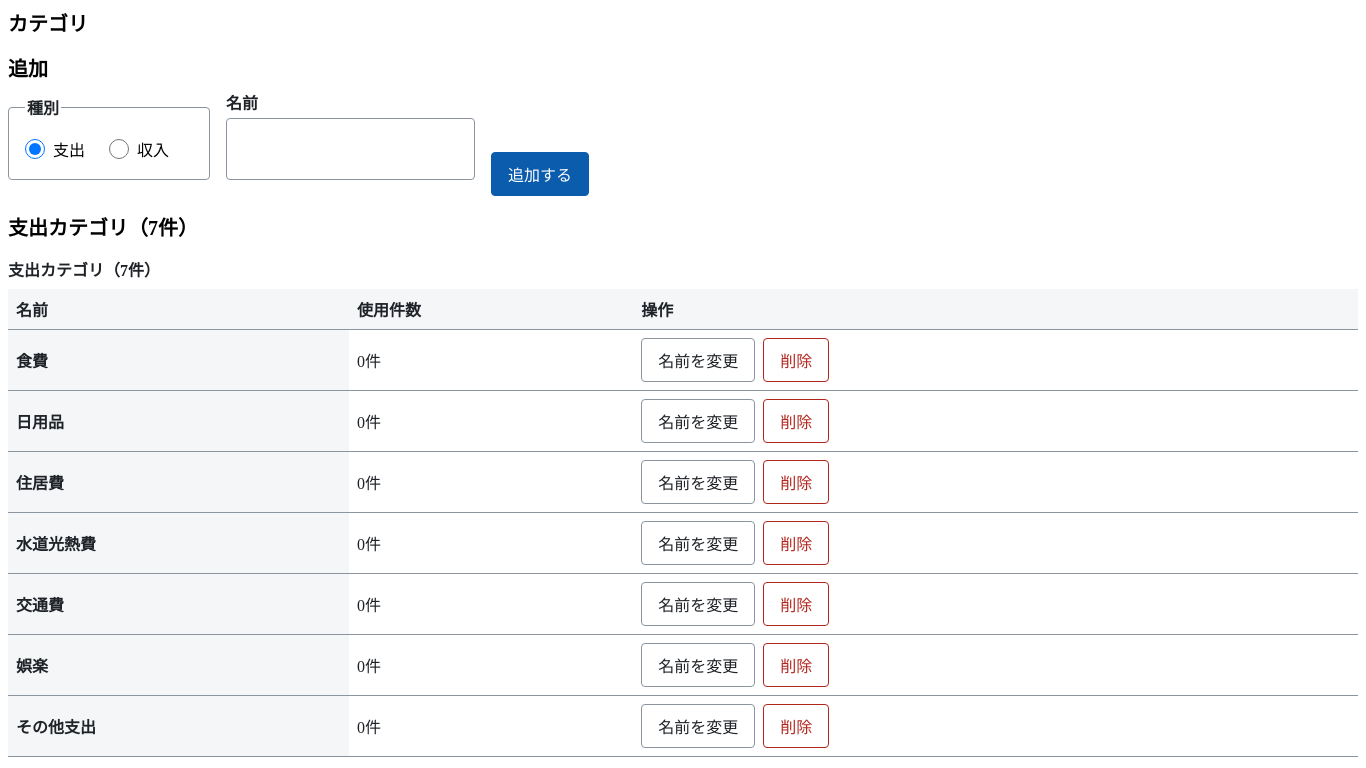
it: カテゴリの名前の変更 › 名前を変更は入力欄に変わり、Esc で取り消して「名前を変更」へフォーカスを戻す（BR3.3）
Click the button with aria-label "娯楽の名前を変更" at (698,665), box [641,643,755,687]
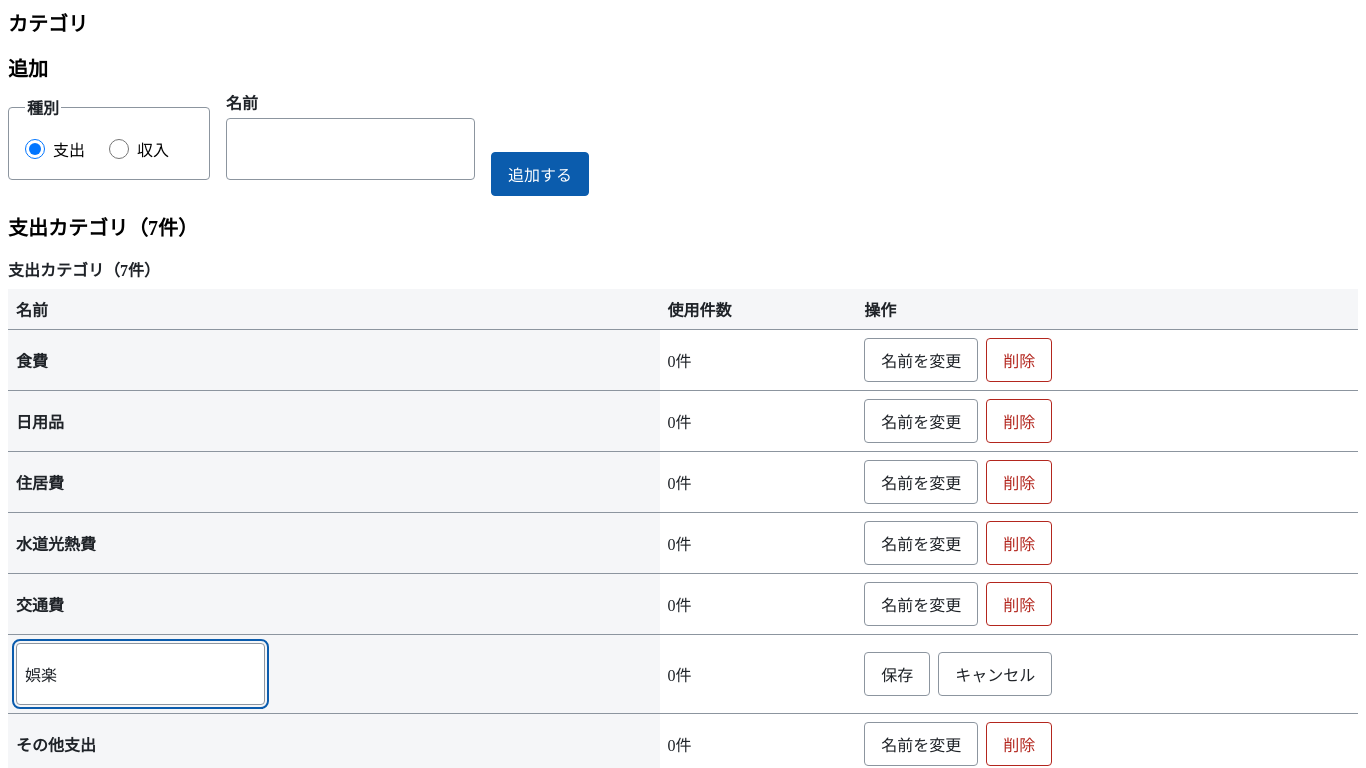
Replace the text in the field named "娯楽の名前を変更" with "架空の遊び" at (140,674), box [16,643,265,705]
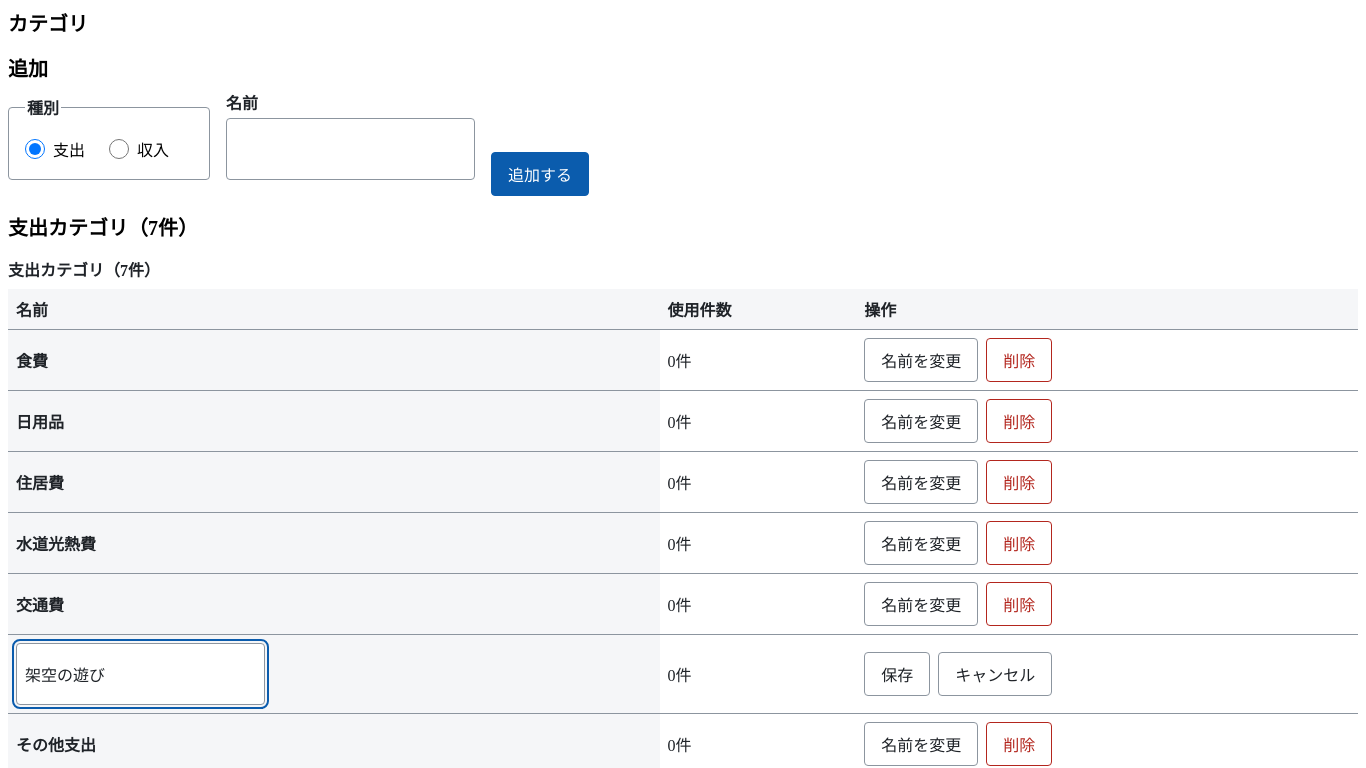
Press Escape
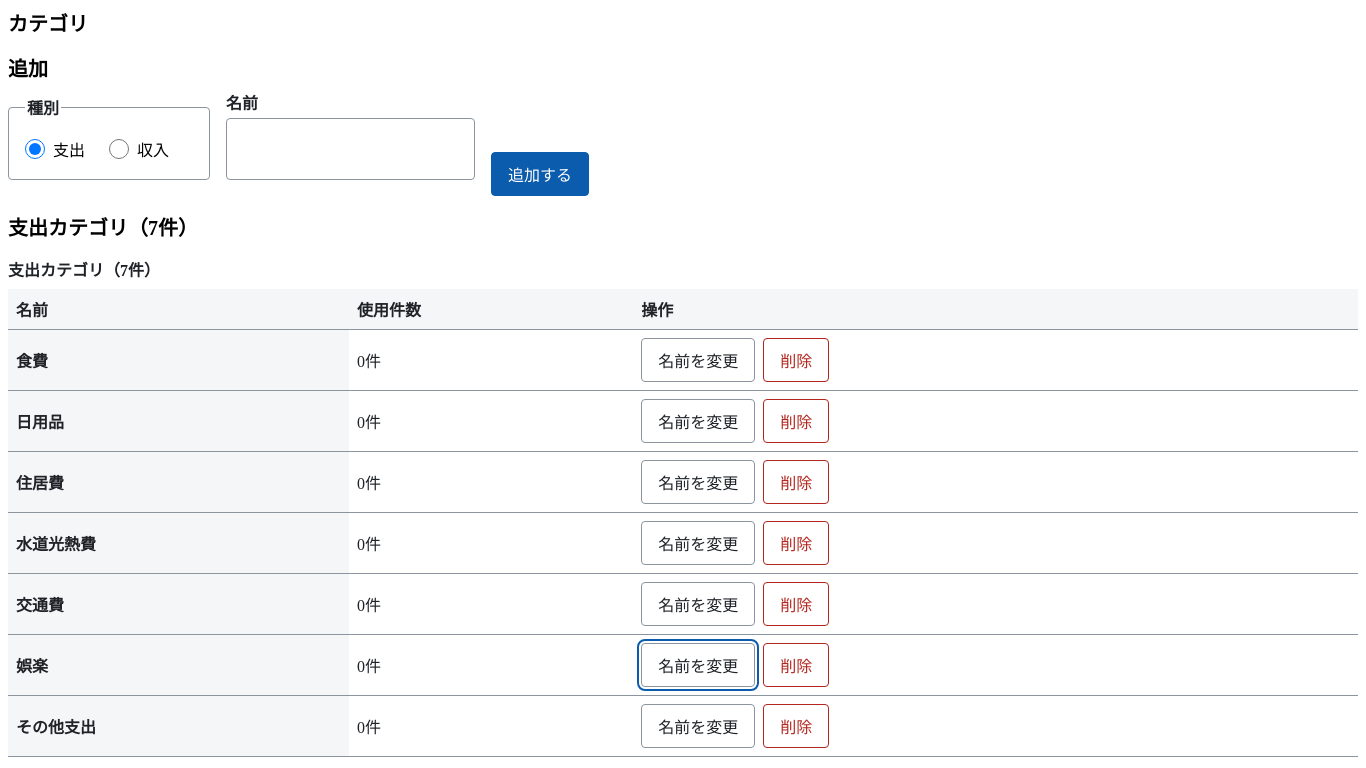
Expected: the row "娯楽" is shown, [16,658,48,675]
